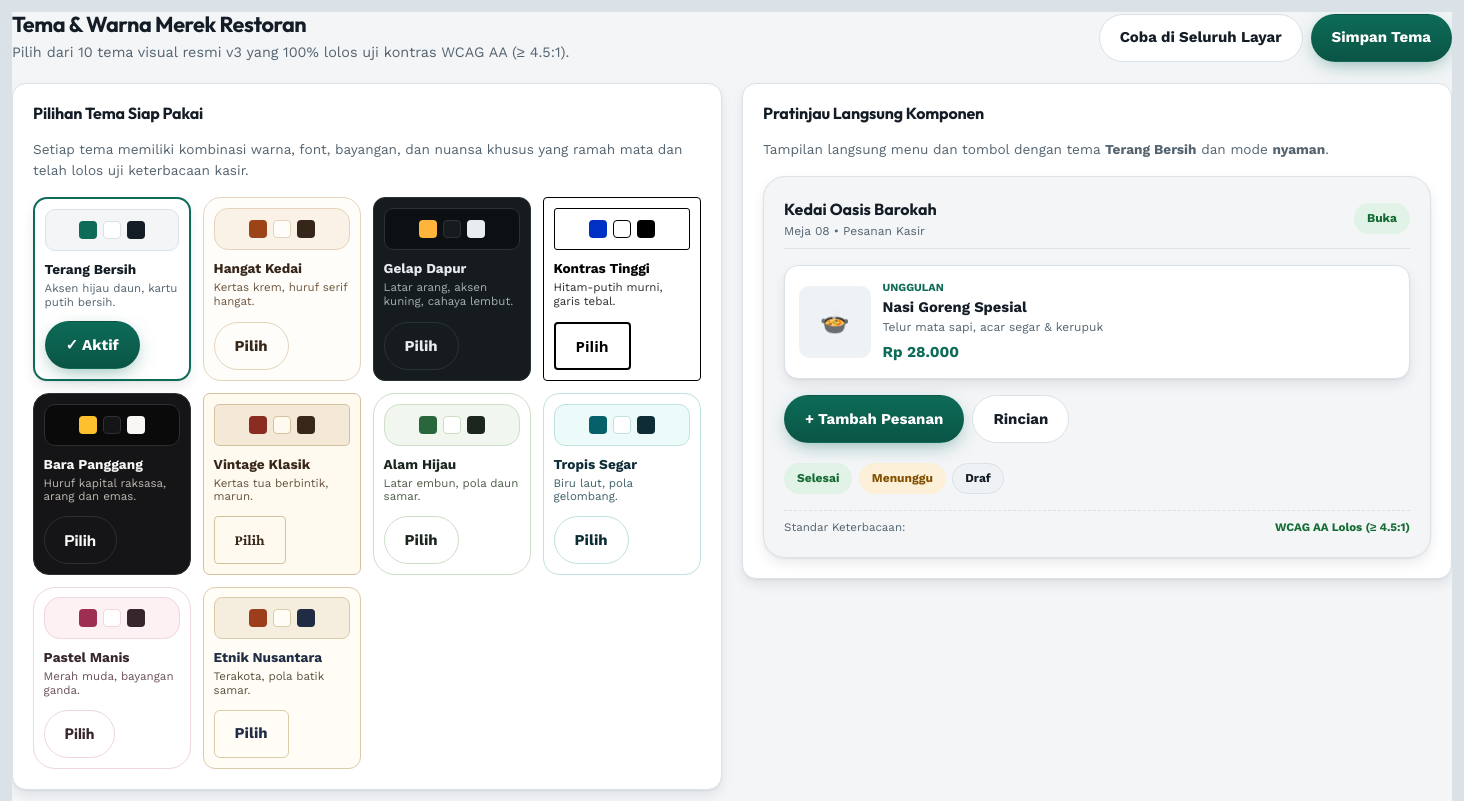
Test case: Tampilan (Pengaturan Tema & Warna Merek — T9-02 / PRD M2) › tombol "Coba di Seluruh Layar" memicu pesan sukses dan pengubahan DOM
This screenshot has width=1464, height=801.
Click the button with aria-label "terapkan tema ini ke aplikasi sekarang": (1201, 38) [1099,14,1303,62]
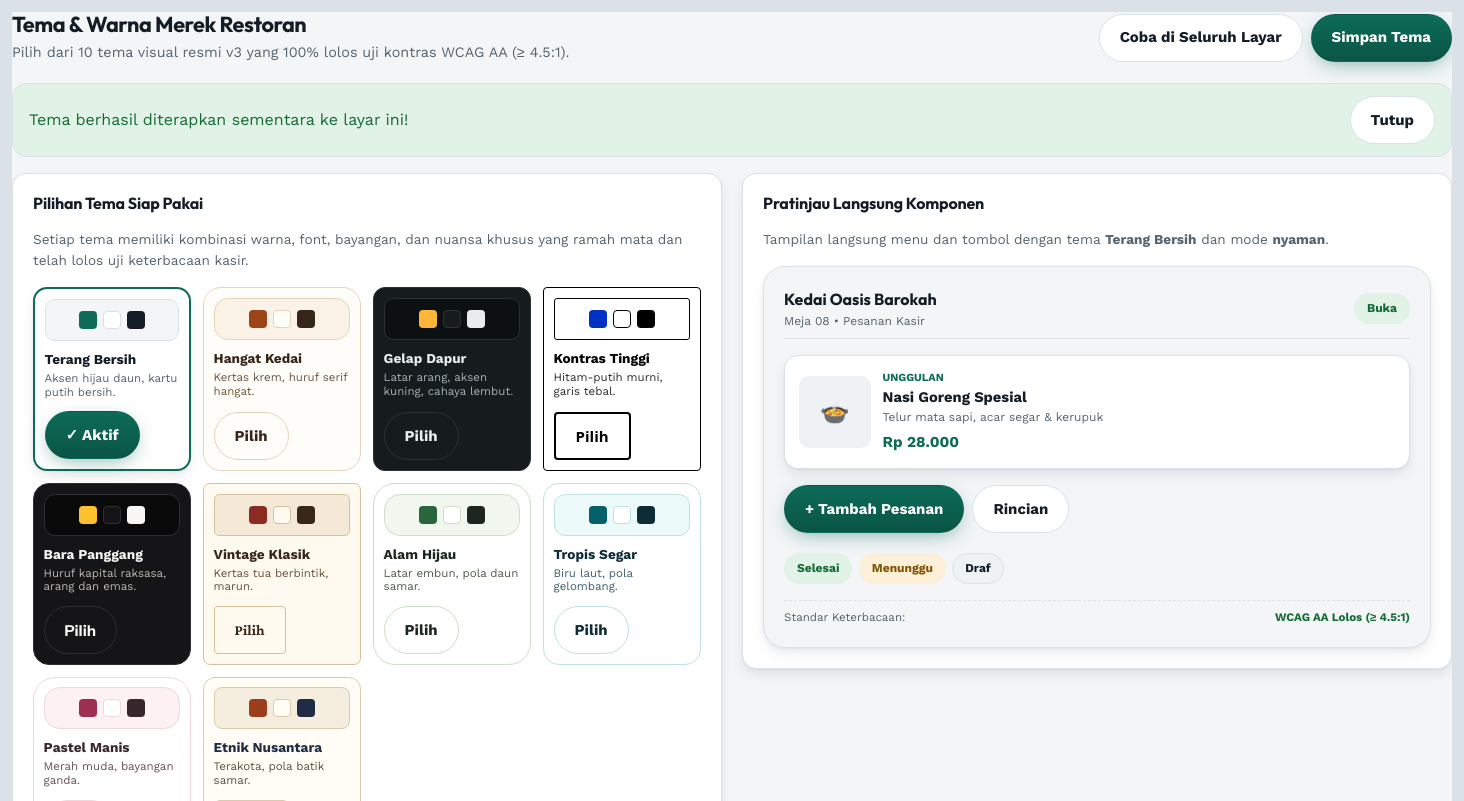
Result: the text "Tema berhasil diterapkan sementara ke layar ini!" is shown at [29,108,408,133]
